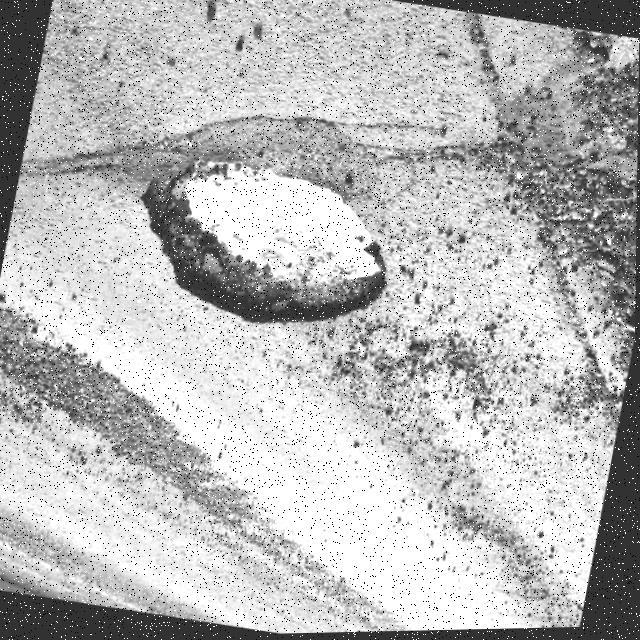pothole: (110, 135, 410, 353)
